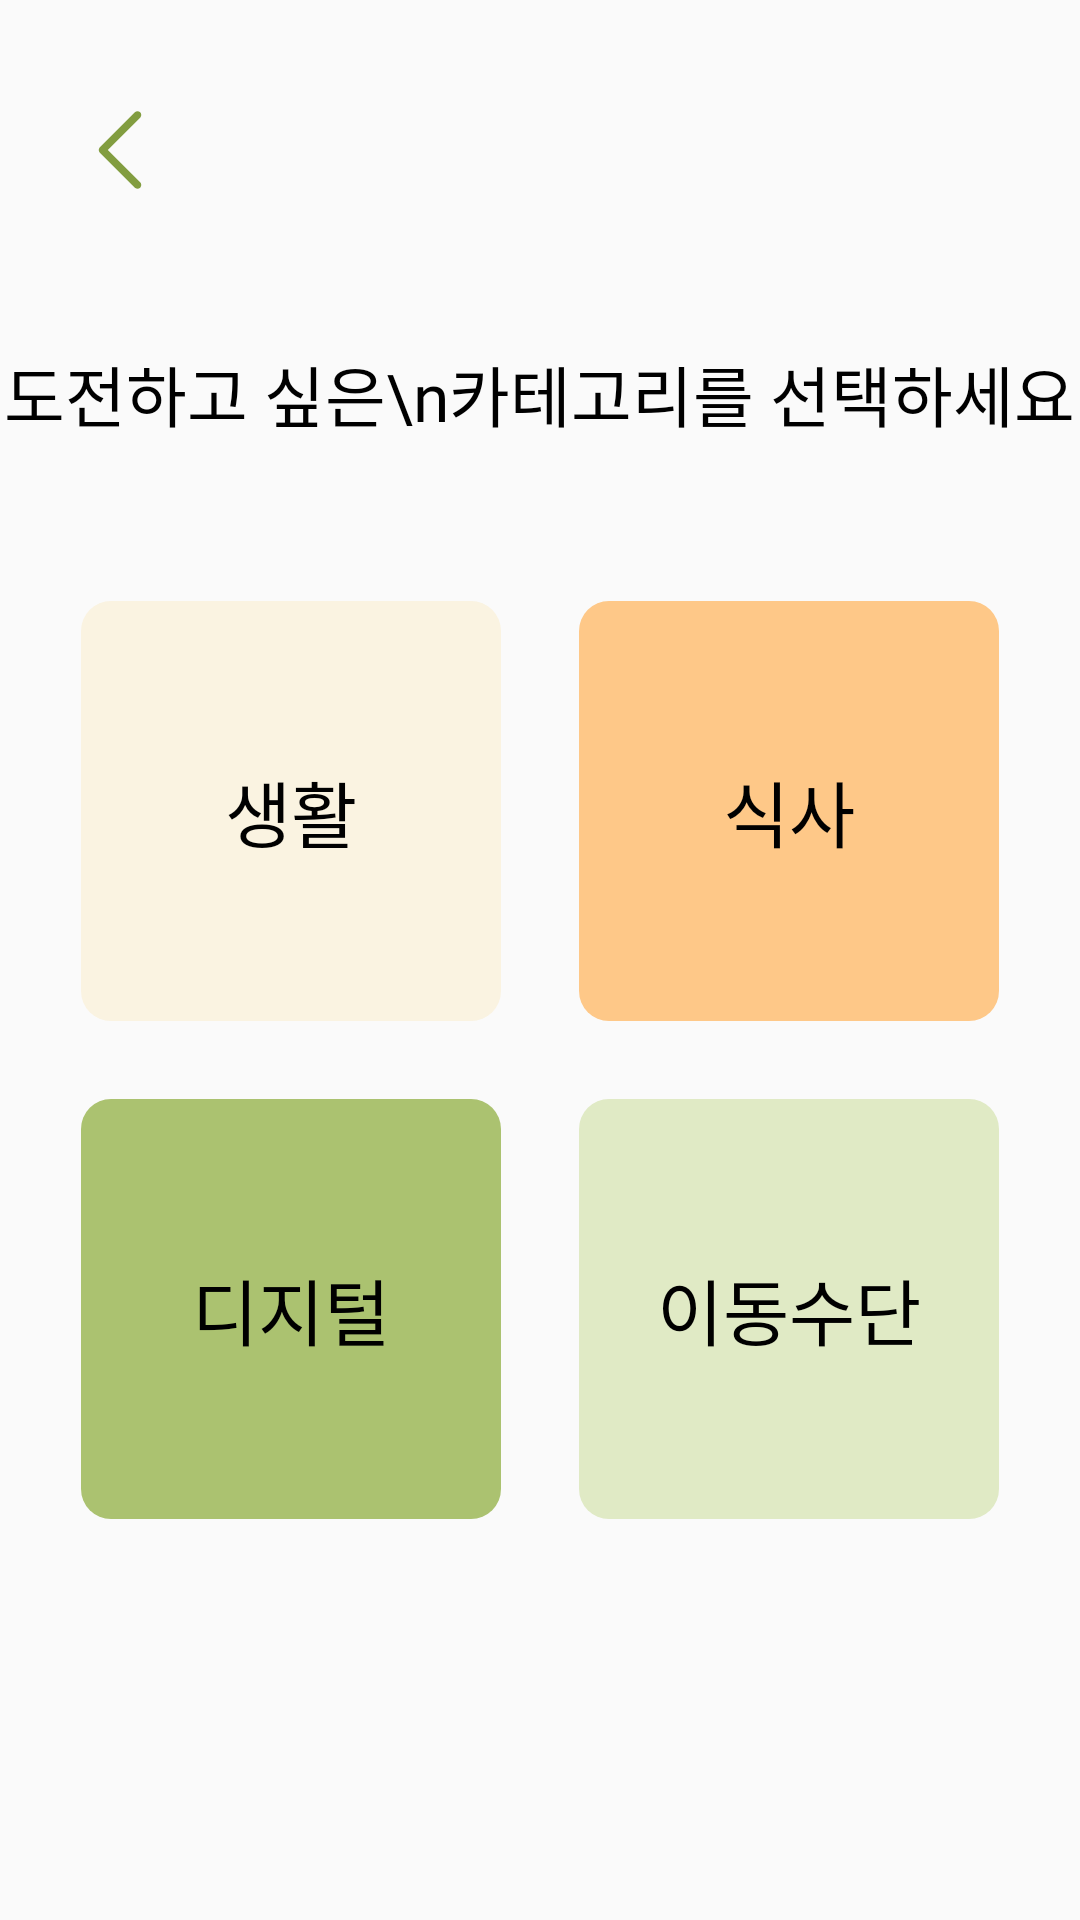

Icons on this 1080px×1920px Android screen, each with its box as (x1=x1, y1=y1, x2=x2, y2=y2):
back arrow: (x1=98, y1=111, x2=142, y2=189)
